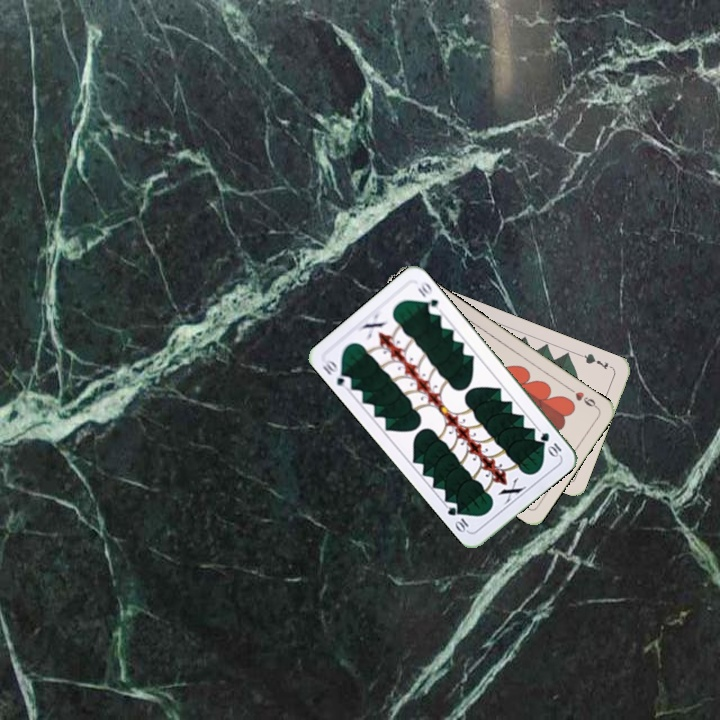G10: (318, 355, 355, 392), (536, 428, 564, 460)
G7: (576, 349, 615, 372)
H9: (564, 383, 600, 411)
